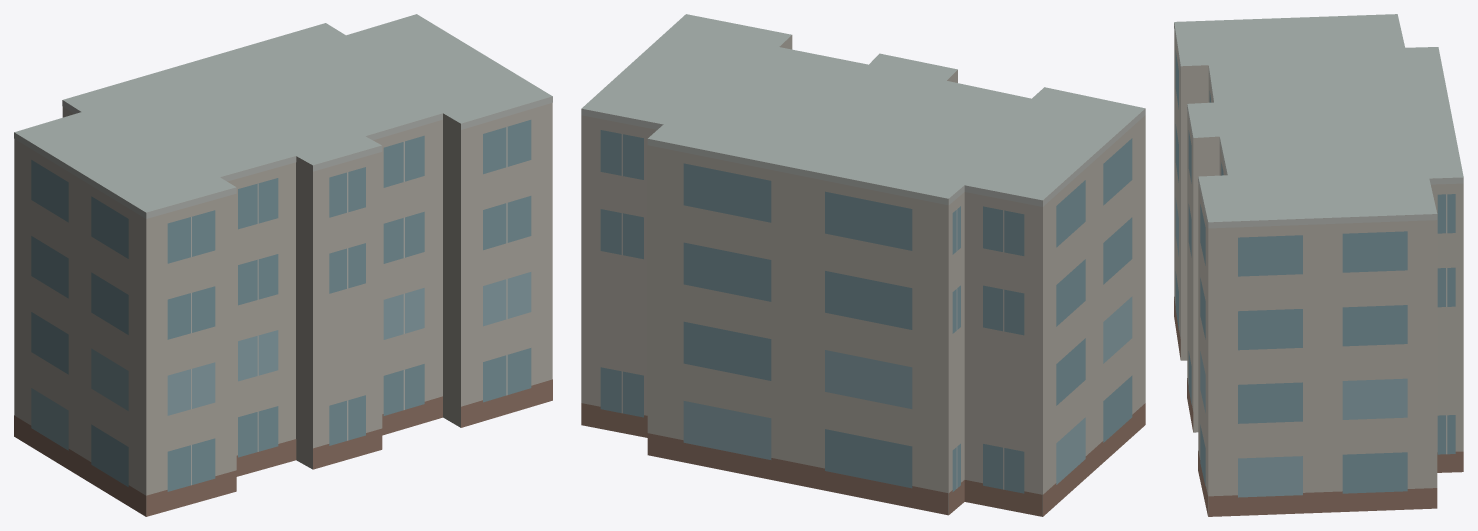
Rendered from survey-upis-32756456.glb.
The picture shows the model from 3 angles, left to right: view 1: azimuth 30°, elevation 25°; view 2: azimuth 150°, elevation 25°; view 3: azimuth 270°, elevation 25°; orthographic projection. The views are drawn at different scales.
Visible parts, largest first — view 1: survey-upis-32756456.tmp; view 2: survey-upis-32756456.tmp; view 3: survey-upis-32756456.tmp.
Part boxes in pixels (x1,y1,x2,y2): survey-upis-32756456.tmp: (14, 14, 552, 516); survey-upis-32756456.tmp: (581, 14, 1145, 516); survey-upis-32756456.tmp: (1174, 14, 1463, 516).
Size of the model in its own units: 17.75 by 11.7 by 10.44.
